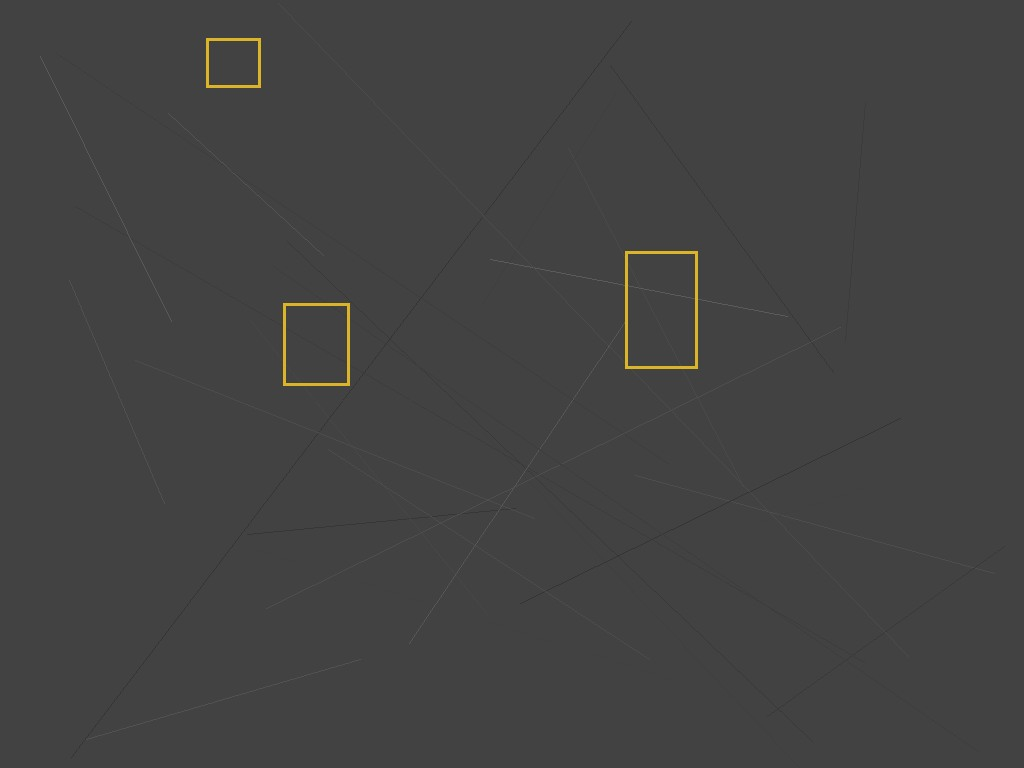D00: (625, 251, 697, 368), (283, 303, 349, 385), (206, 38, 260, 87)
